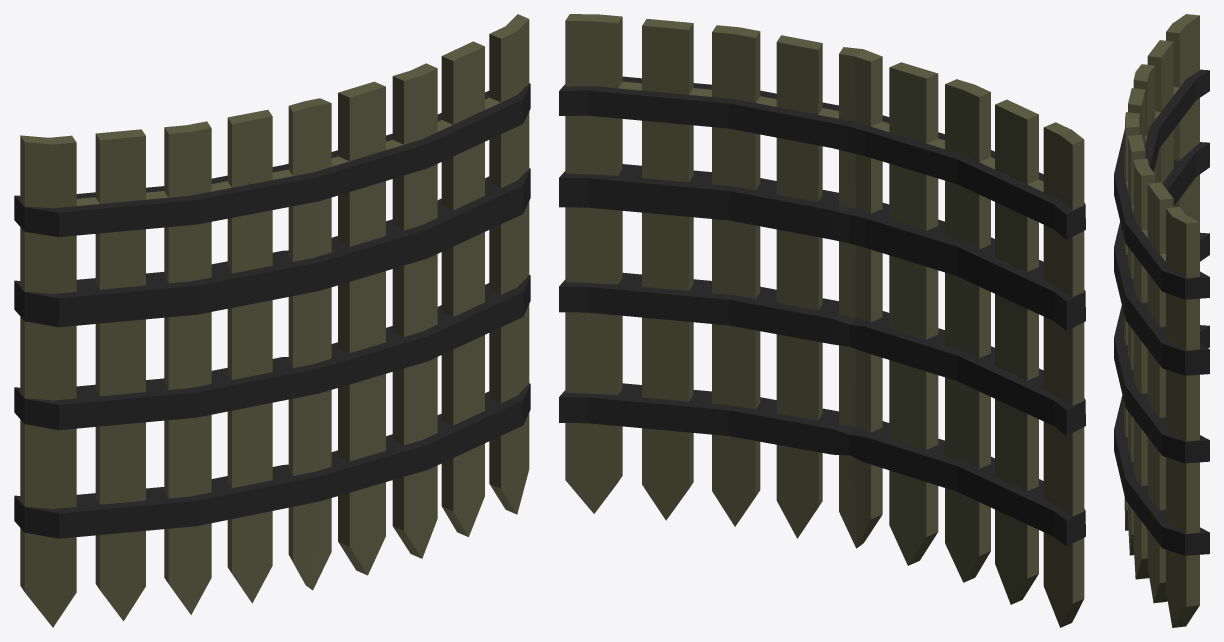
File: HerseTour.fbx
3 renders of one model, left to right at view 1: azimuth 30°, elevation 25°; view 2: azimuth 150°, elevation 25°; view 3: azimuth 270°, elevation 25°, orthographic. The views are drawn at different scales.
Parts seen in each view (by area): view 1: TowerHerse; view 2: TowerHerse; view 3: TowerHerse.
Boxes of the visible parts, x1,y1,x2,y2 form: TowerHerse: (14,14,530,627); TowerHerse: (559,14,1085,627); TowerHerse: (1114,14,1209,627).
Bounding box in the file's own units: 0.6372 × 0.5842 × 0.1229.
